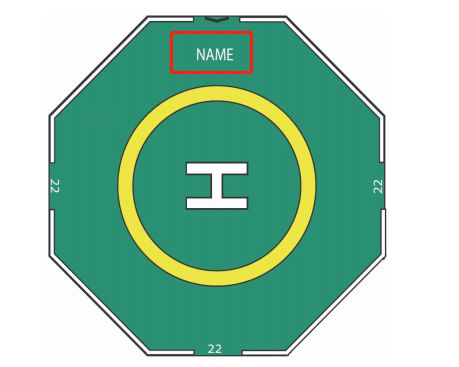H: (186, 161, 249, 209)
